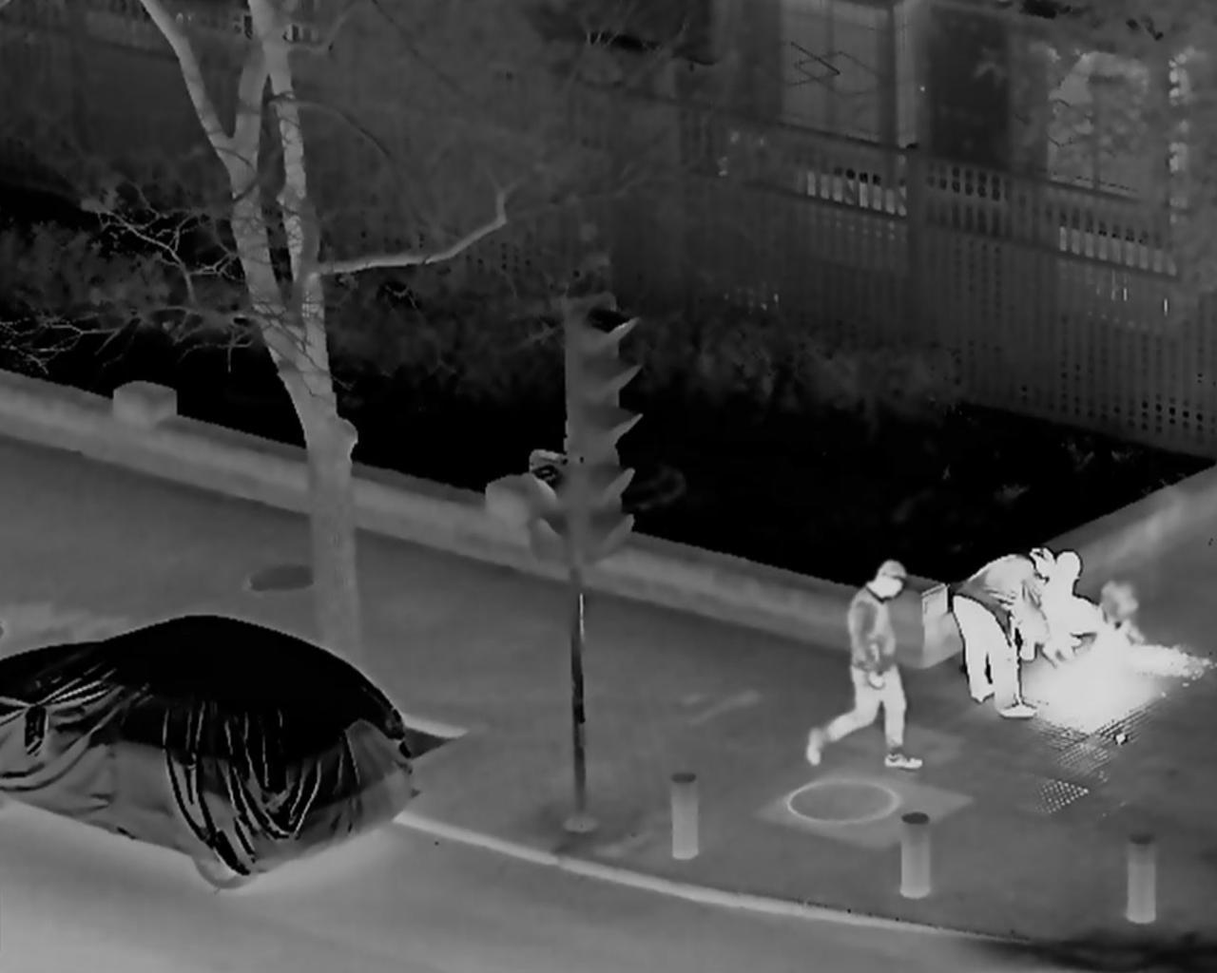person: (804, 557, 922, 770), (952, 544, 1052, 720), (1027, 548, 1110, 662)
